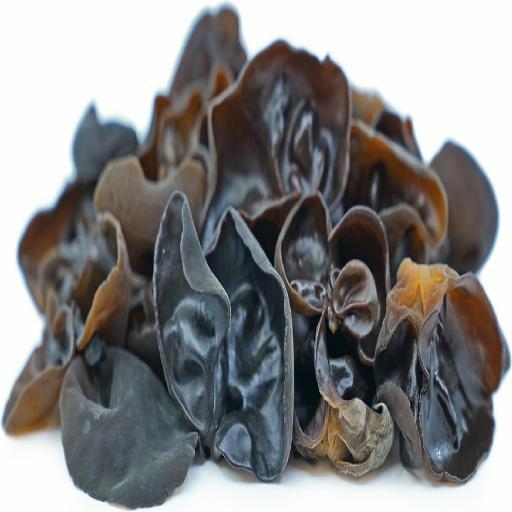mushroom: (0, 107, 142, 446), (148, 187, 299, 484), (193, 36, 355, 258), (377, 241, 511, 490), (278, 187, 393, 476), (75, 140, 208, 353), (61, 327, 200, 512), (330, 104, 449, 282)
